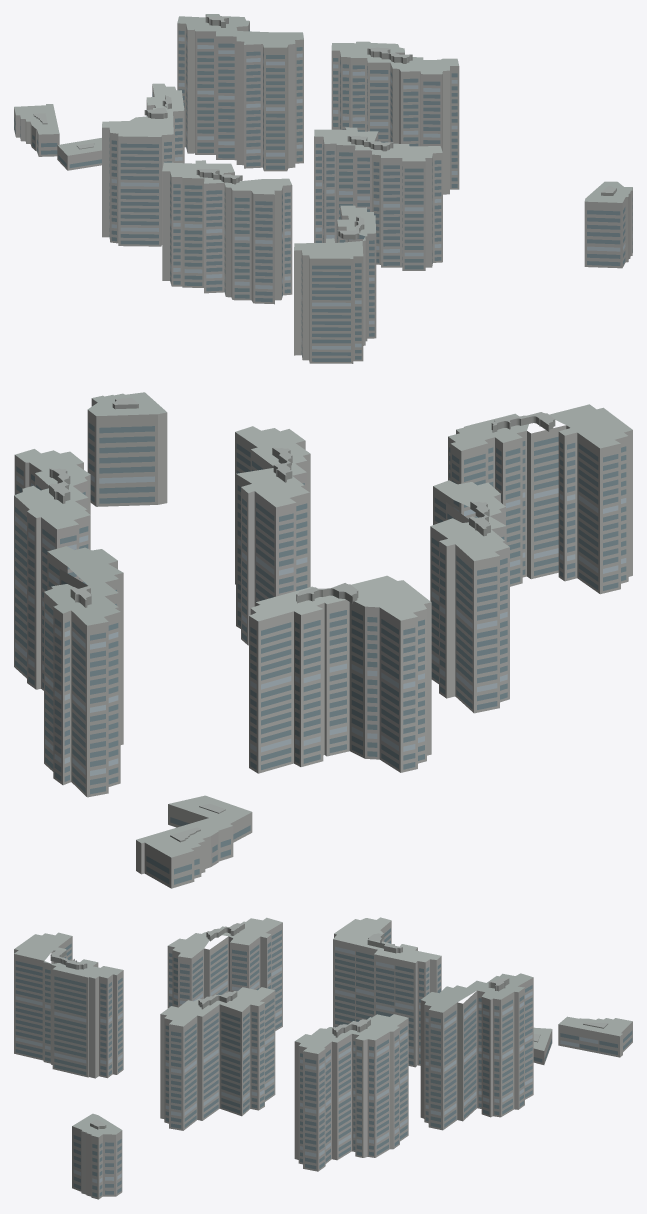
File: apt-a12127007.glb
3 views of the same model, one above another, from view 1: azimuth 30°, elevation 25°; view 2: azimuth 150°, elevation 25°; view 3: azimuth 270°, elevation 25° (orthographic). The views are drawn at different scales.
Parts seen in each view (by area): view 1: apt-a12127007; view 2: apt-a12127007; view 3: apt-a12127007.
Part boxes in pixels (<box>): apt-a12127007: <box>14,14,632,363</box>; apt-a12127007: <box>14,392,632,888</box>; apt-a12127007: <box>14,917,632,1199</box>.
Size of the model in its own units: 164 by 53 by 241.
